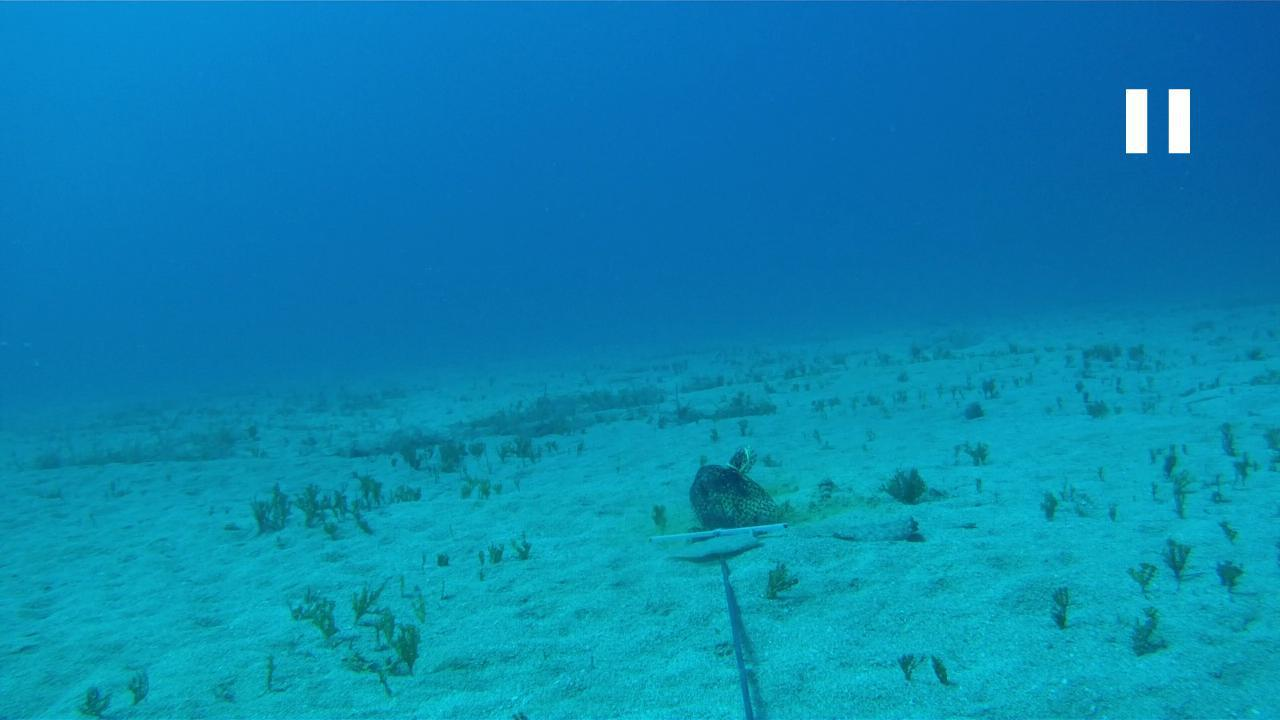bothus: (796, 514, 934, 547), (646, 534, 759, 560)
